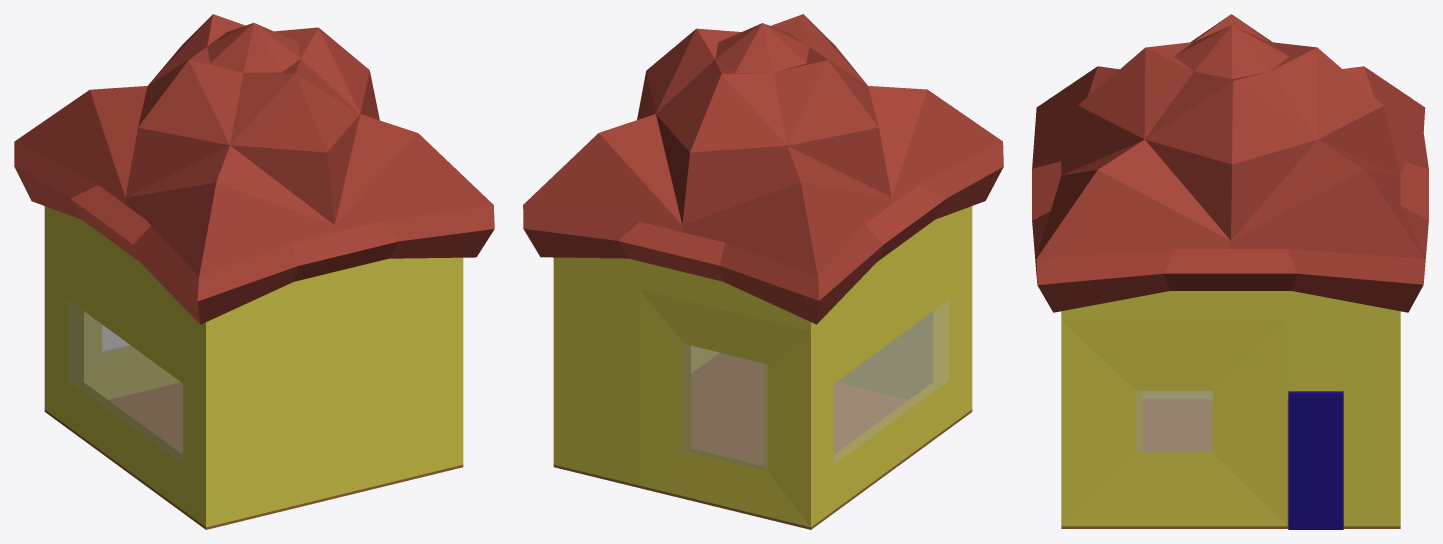
The model's file is house.fbx.
3 renders of one model, left to right at view 1: azimuth 30°, elevation 25°; view 2: azimuth 150°, elevation 25°; view 3: azimuth 270°, elevation 25°, orthographic. The views are drawn at different scales.
Parts seen in each view (by area): view 1: newWall, newRoof, window2, newFloor; view 2: newRoof, newWall, newFloor, window2, window1; view 3: newRoof, newWall, Door, window3, newFloor.
Boxes of the visible parts, <box> form: newWall: <box>44,206,463,527</box>; newRoof: <box>14,14,494,324</box>; window2: <box>67,299,183,463</box>; newFloor: <box>44,382,463,529</box>; newRoof: <box>523,14,1003,324</box>; newWall: <box>553,206,972,527</box>; newFloor: <box>553,354,972,529</box>; window2: <box>833,299,949,463</box>; window1: <box>684,344,767,471</box>; newRoof: <box>1032,14,1428,312</box>; newWall: <box>1061,291,1400,526</box>; Door: <box>1288,391,1343,529</box>; window3: <box>1136,390,1212,452</box>; newFloor: <box>1061,399,1400,528</box>.
Size of the model in its own units: 2132 by 2774 by 2279.
